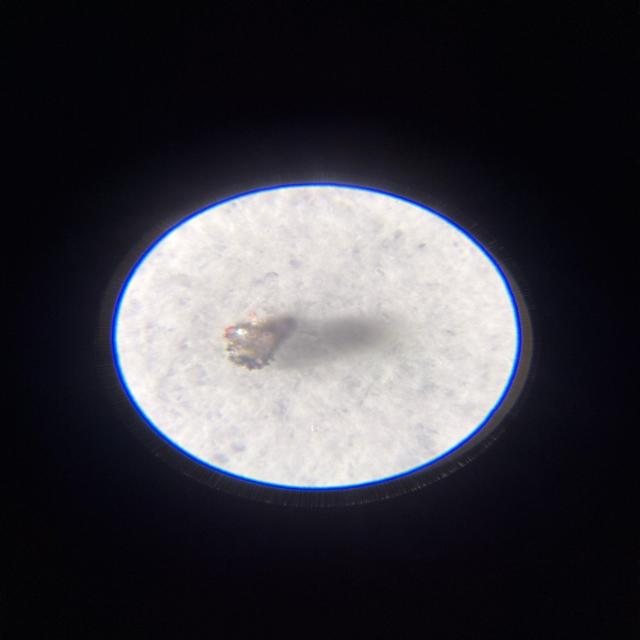microplastic_type_0: (223, 313, 297, 370)
